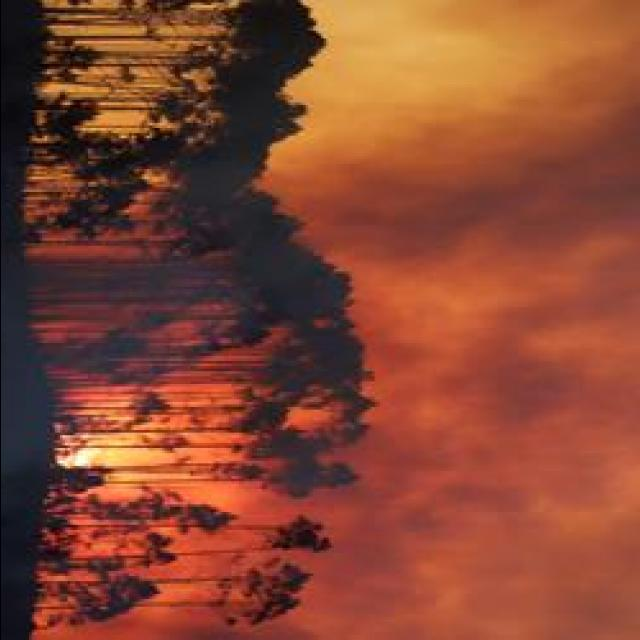fire: (58, 448, 98, 469)
smoke: (471, 77, 638, 261), (454, 478, 636, 640), (318, 131, 494, 268), (448, 286, 602, 431), (353, 414, 461, 578), (319, 552, 428, 640), (182, 622, 304, 640)
